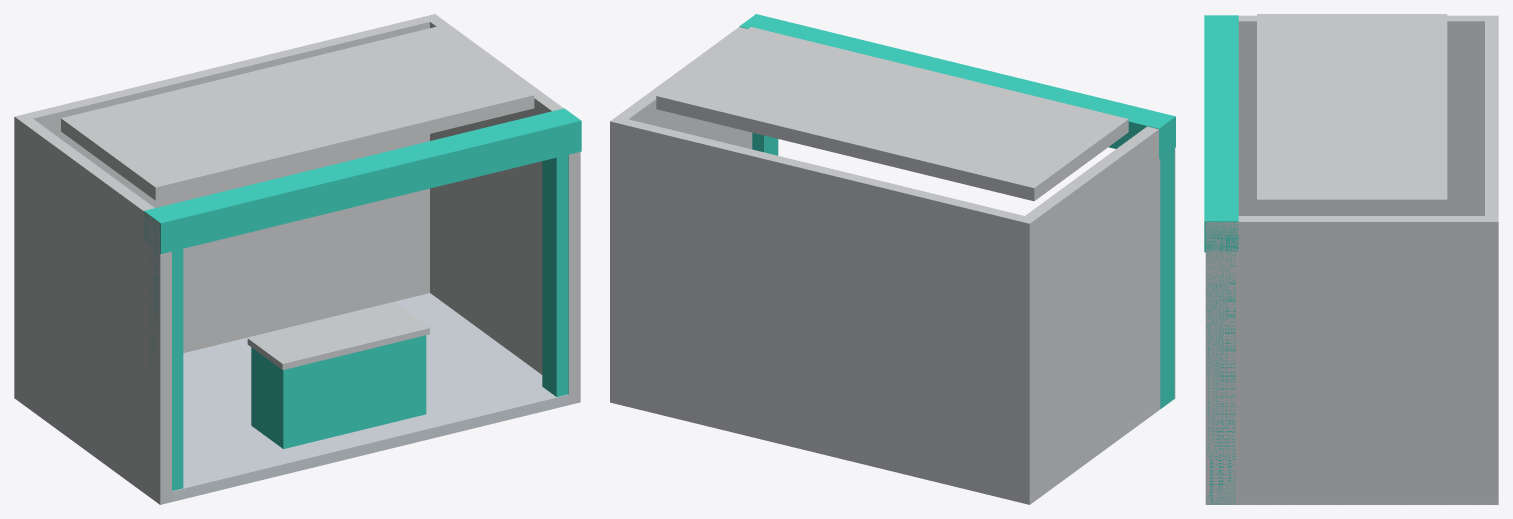
3 renders of one model, left to right at view 1: azimuth 30°, elevation 25°; view 2: azimuth 150°, elevation 25°; view 3: azimuth 270°, elevation 25°, orthographic.
Visible parts, largest first — view 1: Exhibition Booth Concept; view 2: Exhibition Booth Concept; view 3: Exhibition Booth Concept.
Boxes of the visible parts, x1=… form: Exhibition Booth Concept: x1=14, y1=14, x2=581, y2=504; Exhibition Booth Concept: x1=610, y1=14, x2=1175, y2=504; Exhibition Booth Concept: x1=1204, y1=14, x2=1498, y2=504.
Bounding box in the file's own units: 5 × 3.34 × 3.01.
